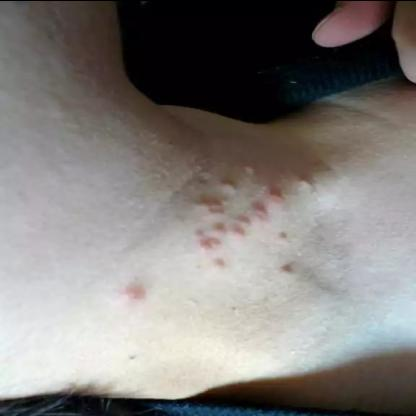Bed Bug: (185, 157, 331, 280), (112, 276, 152, 310)
